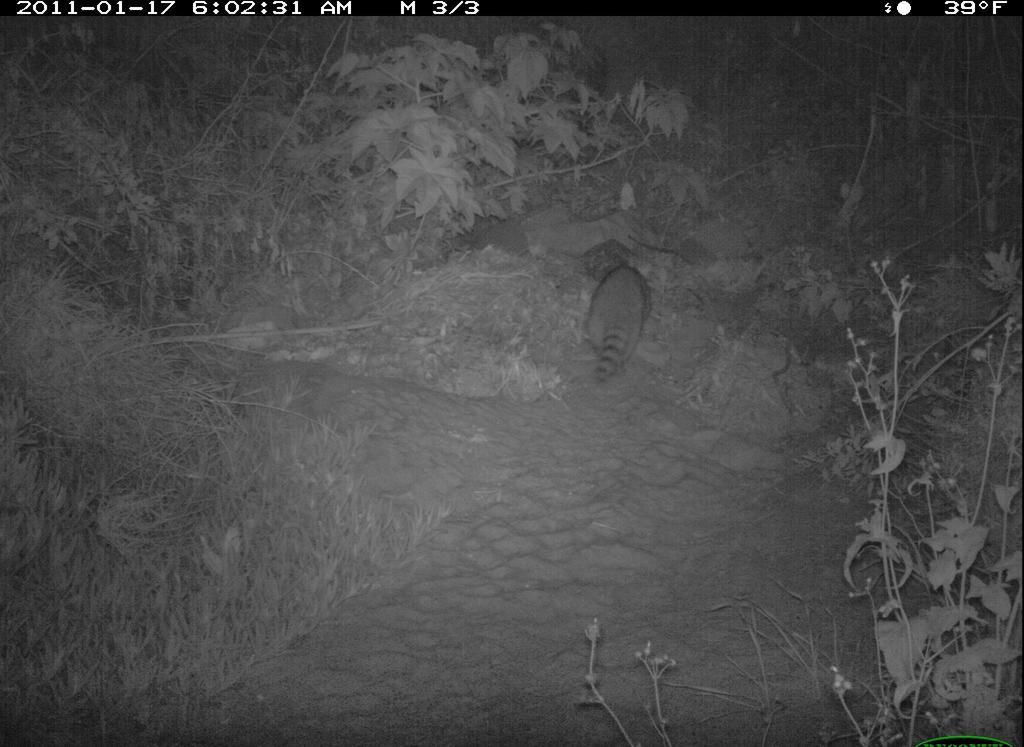raccoon: (585, 257, 653, 392)
